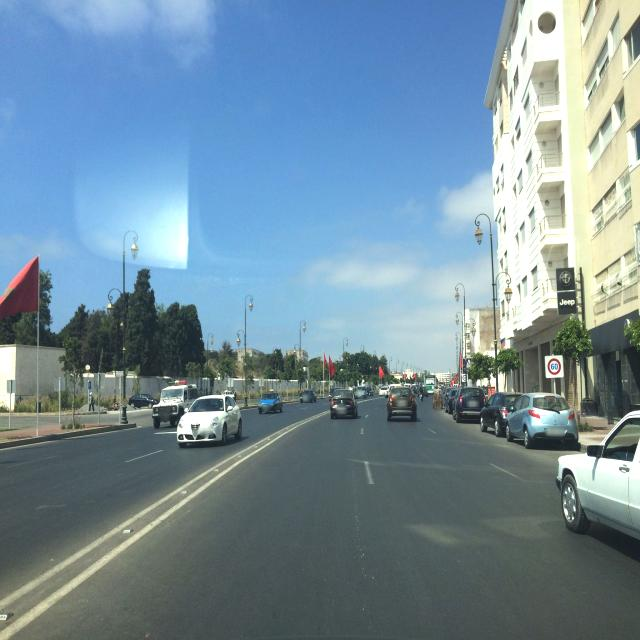car: (555, 405, 640, 600), (506, 391, 579, 449), (176, 394, 243, 448), (151, 384, 200, 429), (480, 392, 520, 436), (453, 386, 486, 422), (387, 386, 417, 422), (330, 388, 358, 419), (258, 390, 282, 414), (127, 392, 157, 408), (445, 389, 458, 414), (299, 389, 317, 403), (354, 386, 366, 400), (378, 385, 388, 397), (366, 386, 374, 397)
